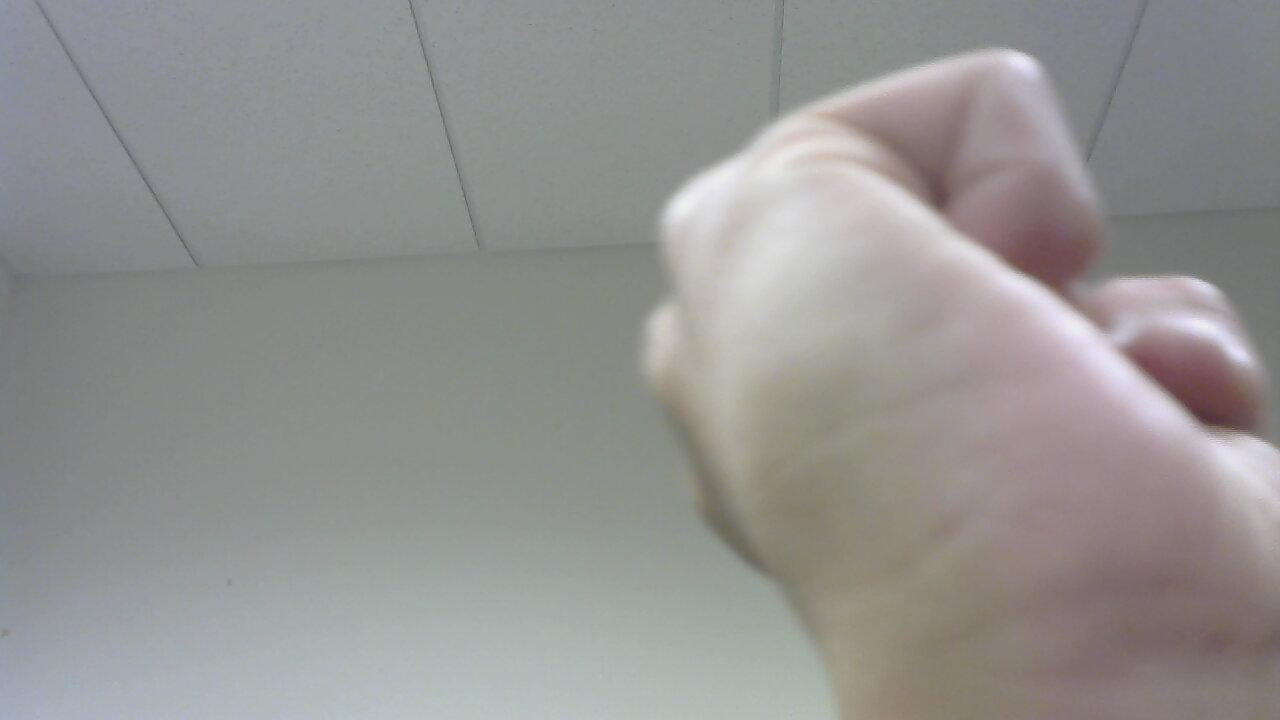fist: (639, 24, 1280, 682)
